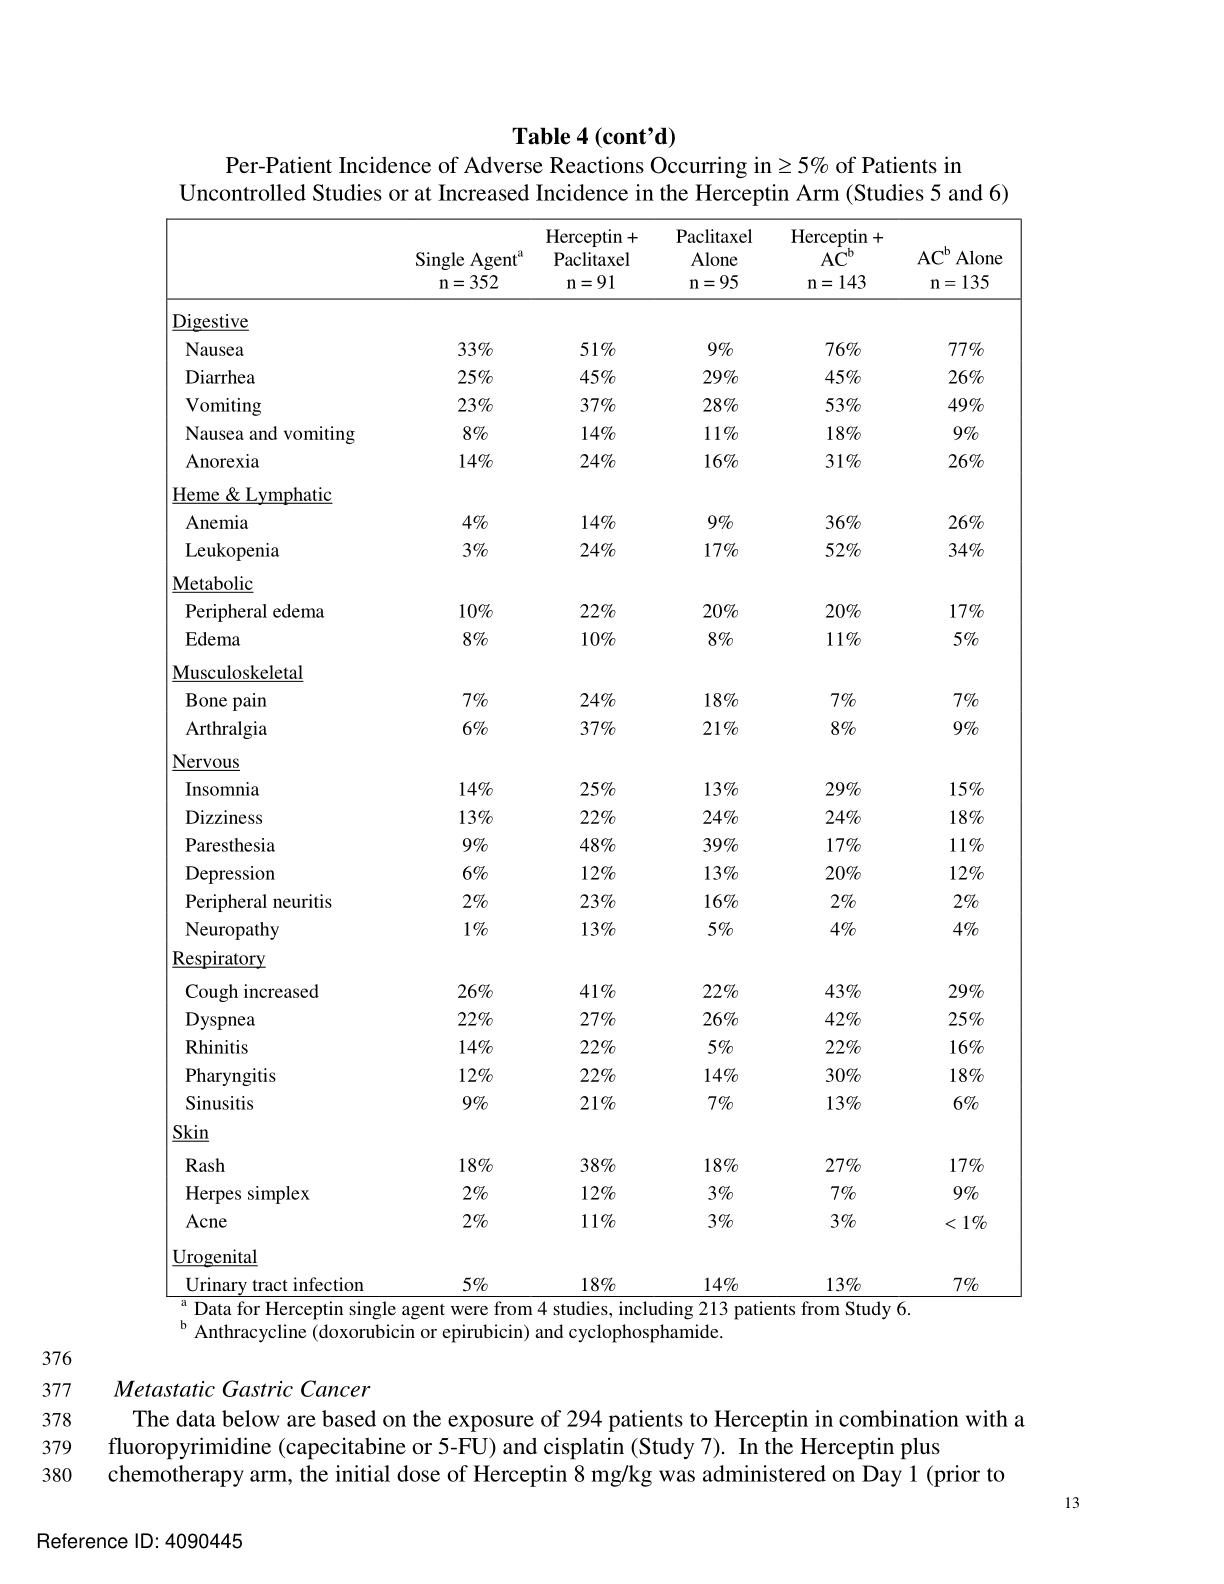partial_lined: (165, 219, 1025, 1300)
